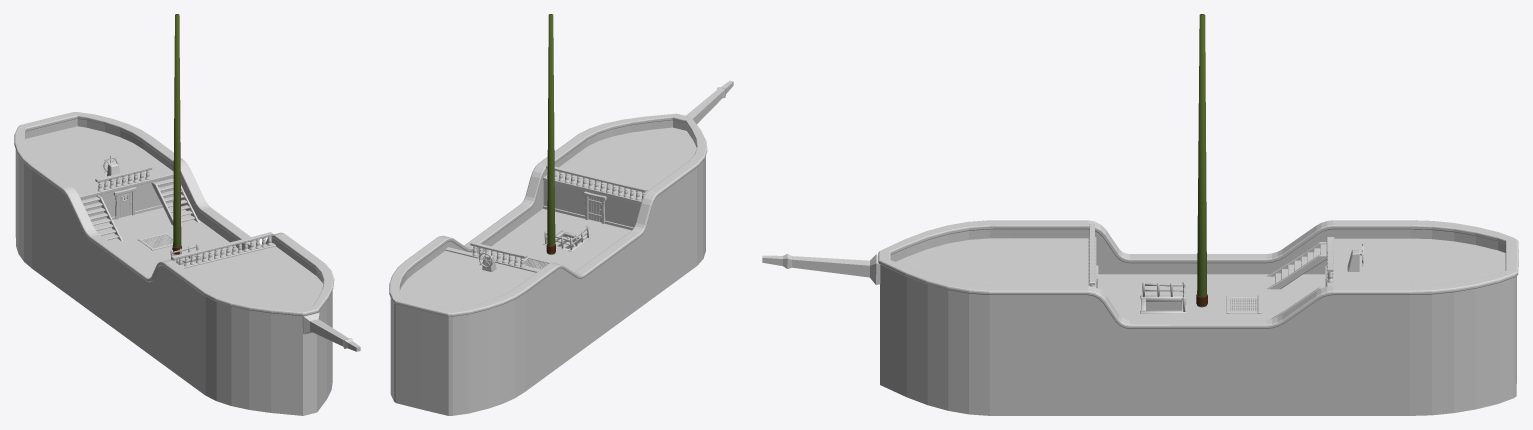
File: spacepirateship2.fbx
3 renders of one model, left to right at view 1: azimuth 30°, elevation 25°; view 2: azimuth 150°, elevation 25°; view 3: azimuth 270°, elevation 25°, orthographic. The views are drawn at different scales.
Parts seen in each view (by area): view 1: Aussenwand, Reling, Back, Front, Deck, Mast, Base.003, Bugspriet, Stairs1, Stairs2, Base, Base.001 (+2 smaller); view 2: Aussenwand, Reling, Front, Back, Deck, Mast, Base.003, Bugspriet, Base, Treppenloch, Base.002, Door_Level1 (+1 smaller); view 3: Aussenwand, Reling, Front, Back, Deck, Mast, Bugspriet, Stairs2, Treppenloch.
Part boxes in pixels (bbox=[...]): Aussenwand: bbox=[15, 118, 332, 415]; Reling: bbox=[14, 112, 334, 316]; Back: bbox=[25, 126, 173, 221]; Front: bbox=[185, 246, 323, 309]; Deck: bbox=[93, 206, 238, 273]; Mast: bbox=[172, 14, 181, 254]; Base.003: bbox=[171, 232, 273, 267]; Bugspriet: bbox=[302, 312, 360, 351]; Stairs1: bbox=[151, 177, 199, 225]; Stairs2: bbox=[81, 195, 123, 241]; Base: bbox=[95, 165, 152, 191]; Base.001: bbox=[78, 171, 173, 199]; Aussenwand: bbox=[390, 120, 705, 415]; Reling: bbox=[389, 113, 707, 316]; Front: bbox=[543, 127, 696, 227]; Back: bbox=[399, 250, 535, 309]; Deck: bbox=[483, 208, 631, 272]; Mast: bbox=[546, 14, 555, 254]; Base.003: bbox=[546, 165, 647, 200]; Bugspriet: bbox=[686, 80, 733, 124]; Base: bbox=[470, 241, 527, 267]; Treppenloch: bbox=[543, 225, 590, 251]; Base.002: bbox=[543, 175, 641, 203]; Door_Level1: bbox=[588, 196, 601, 222]; Aussenwand: bbox=[880, 229, 1516, 415]; Reling: bbox=[878, 220, 1518, 328]; Front: bbox=[896, 238, 1088, 285]; Back: bbox=[1334, 238, 1505, 285]; Deck: bbox=[1097, 274, 1325, 319]; Mast: bbox=[1196, 14, 1207, 307]; Bugspriet: bbox=[762, 254, 880, 284]; Stairs2: bbox=[1267, 242, 1326, 289]; Treppenloch: bbox=[1140, 281, 1186, 313].
Bounding box in the file's own units: 1068 × 2536 × 4754.
